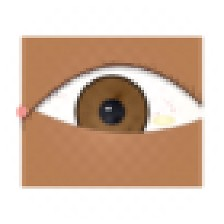pinguecula_lesion: (141, 102, 187, 139)
